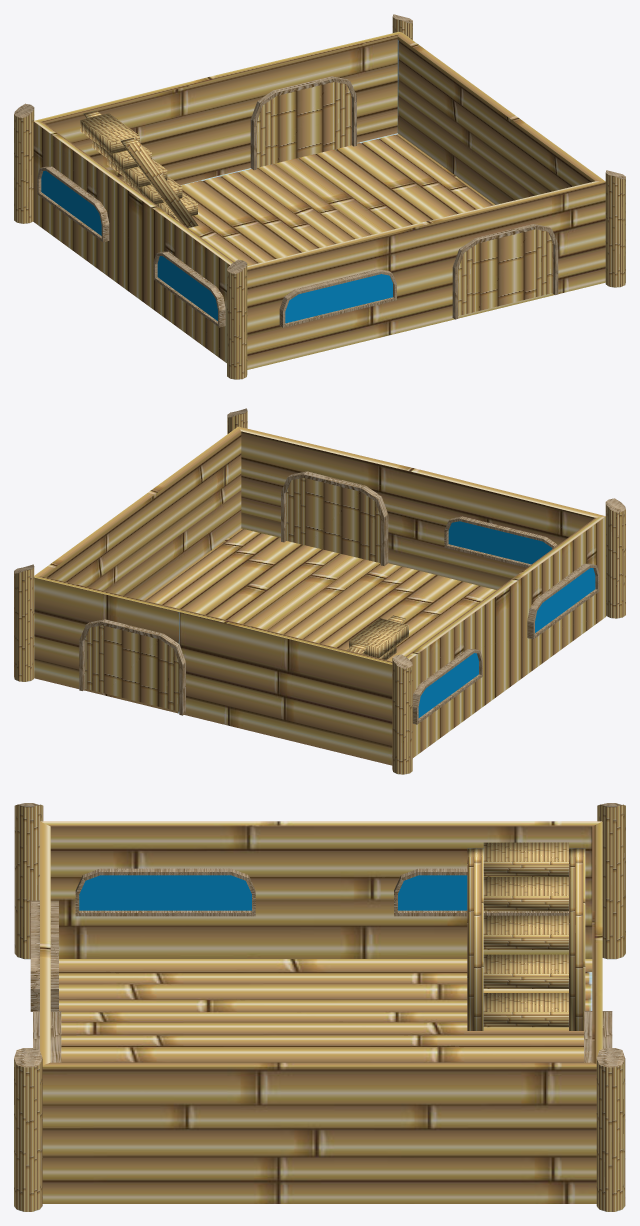
File: CajaCasa 3.5 Interior 1.fbx
3 renders of one model, top to bottom at view 1: azimuth 30°, elevation 25°; view 2: azimuth 150°, elevation 25°; view 3: azimuth 270°, elevation 25°, orthographic. The views are drawn at different scales.
Visible parts, largest first — view 1: Cube.009; view 2: Cube.009; view 3: Cube.009.
Boxes of the visible parts, bbox=[...] form: Cube.009: bbox=[14, 14, 625, 379]; Cube.009: bbox=[14, 408, 625, 774]; Cube.009: bbox=[14, 803, 625, 1211].
Size of the model in its own units: 728 by 198 by 713.
19 materials, 16 textured.
